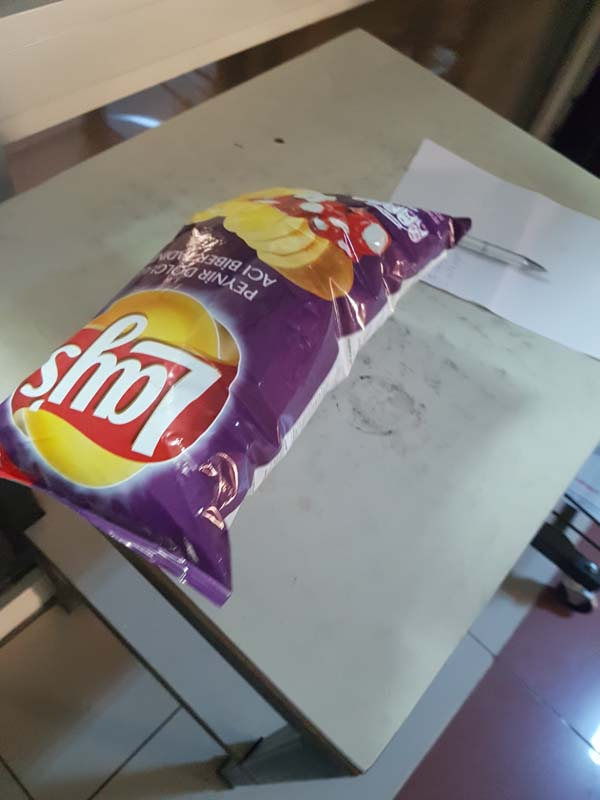layspeynirsoslu: (2, 186, 476, 604)
